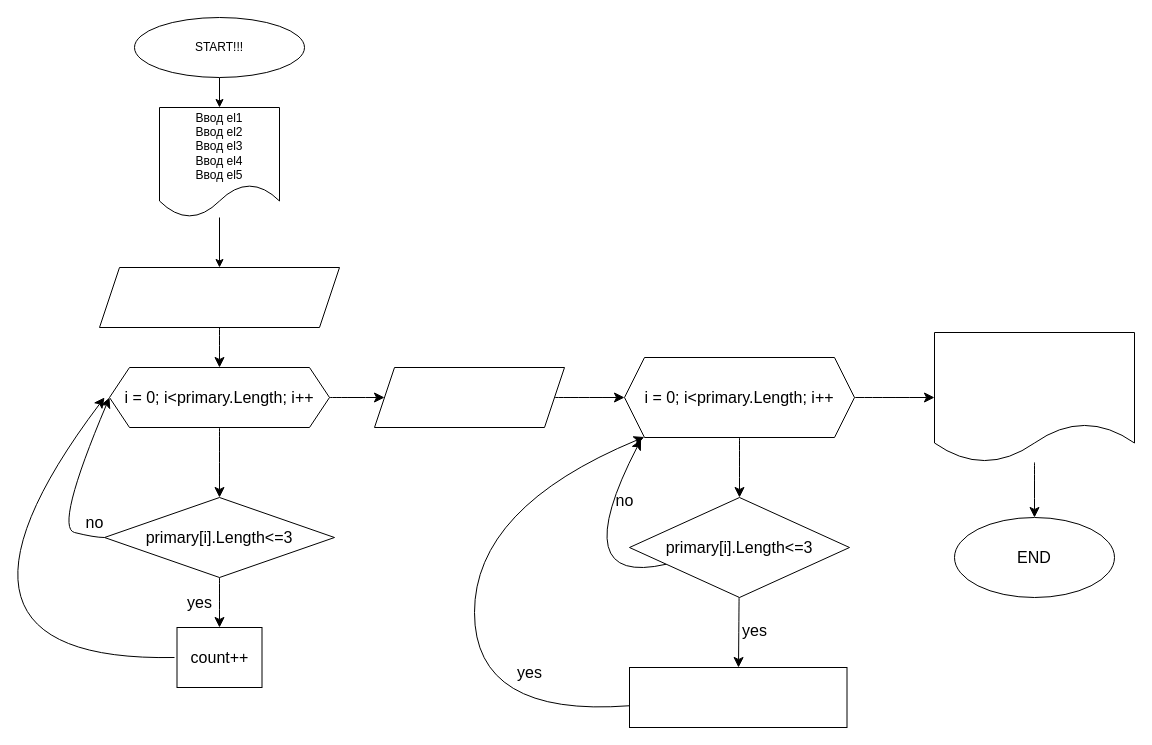
Some shapes in this 1152 by 745 pixel diagram are drawn without their labels. Each missing label, with the centre of its shape:
"primary[] secondary[]" belongs at [1034,397].
"primary[]{el1,el2,el3,el4,el5} count = 0" belongs at [219,297].
"secondary[count] index = 0" belongs at [469,397].
"secondary[index] = primary[i] index++" belongs at [737,697].
